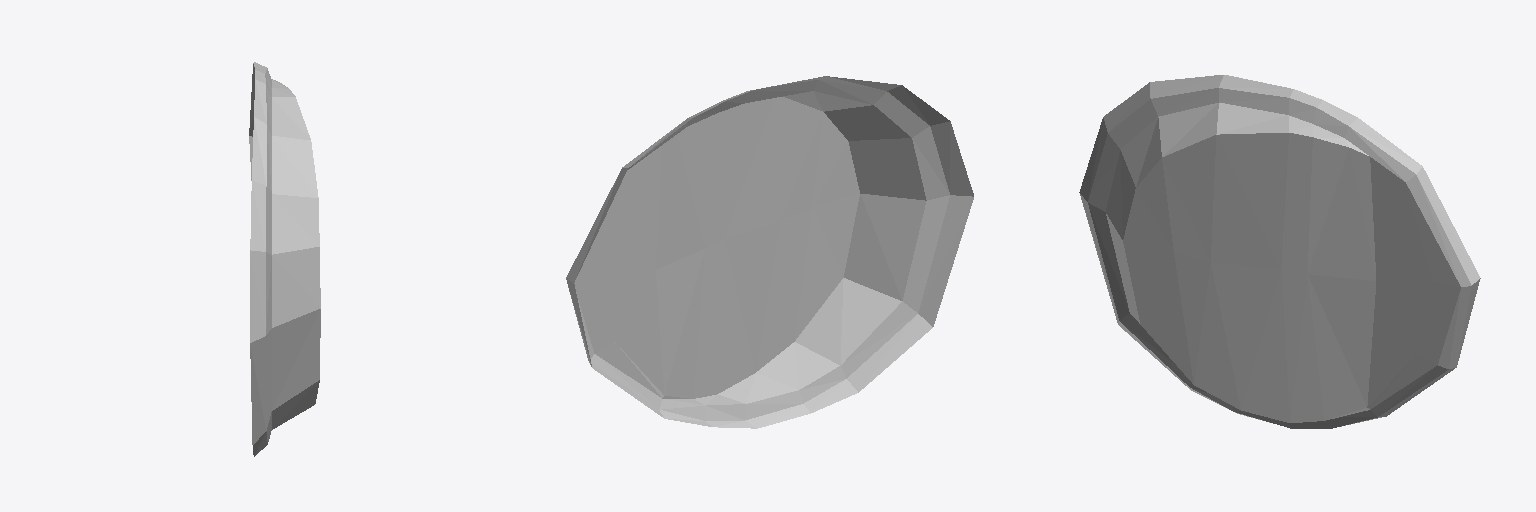
The model's file is RShoulderRoll_shiny.obj.
The picture shows the model from 3 angles: view 1: azimuth 30°, elevation 25°; view 2: azimuth 150°, elevation 25°; view 3: azimuth 270°, elevation 25°; orthographic projection.
Size of the model in its own units: 0.4672 by 0.7145 by 0.7646.